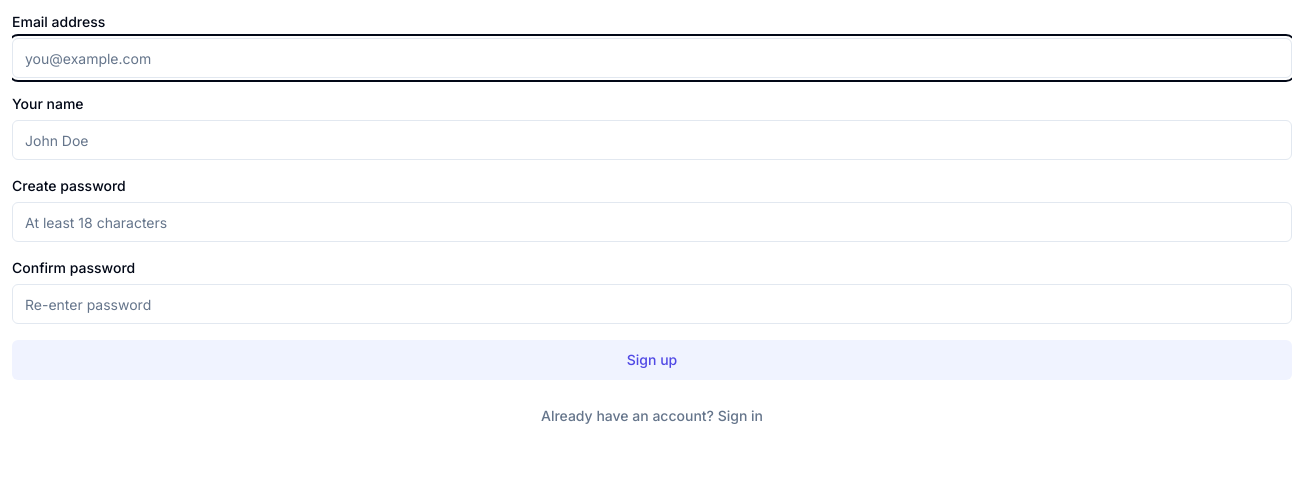
Test: EmailPasswordAuthForm › Sign-up flow › validates password match
This screenshot has width=1304, height=487.
Type "test@example.com" into the field labelled "Email address" at [652, 58], box top-left (12, 38), bottom-right (1292, 78)
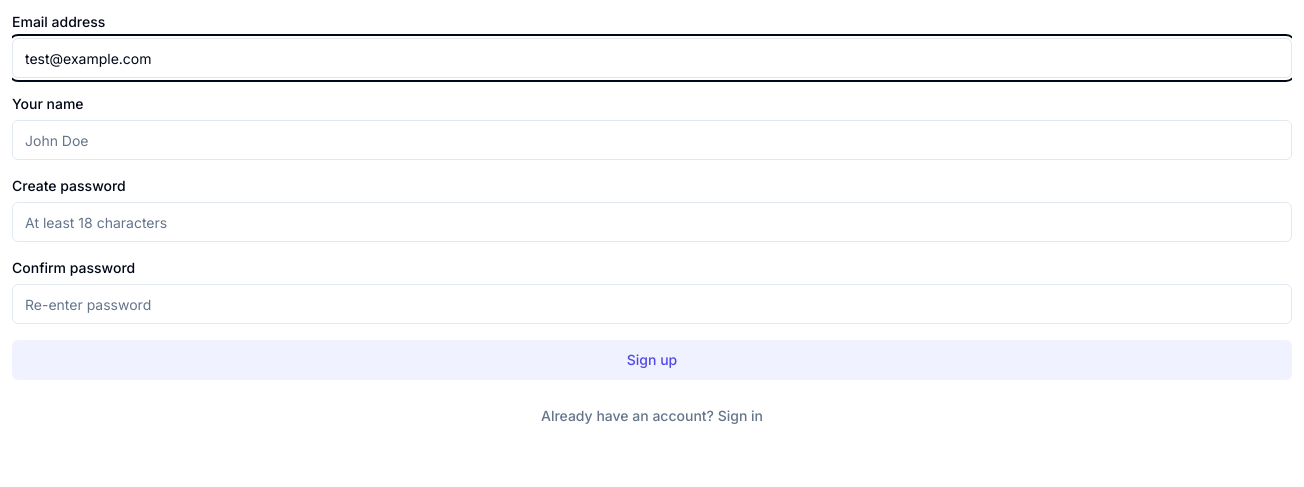
Type "Test User" into the field labelled "Your name" at [652, 140], box top-left (12, 120), bottom-right (1292, 160)
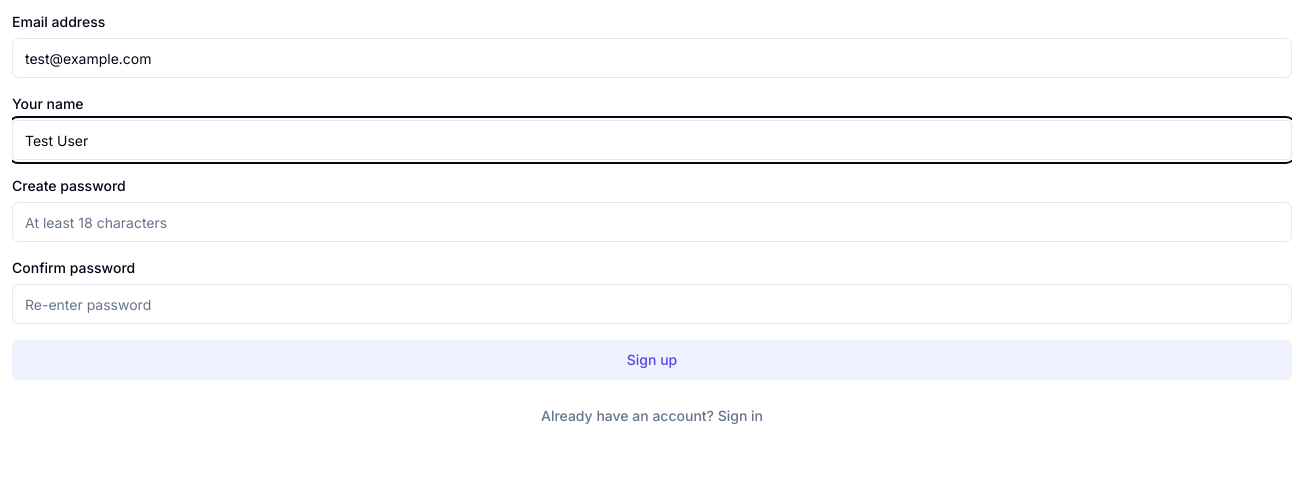
Type "verysecurepassword1" into the password field labelled "Create password" at [652, 222], box top-left (12, 202), bottom-right (1292, 242)
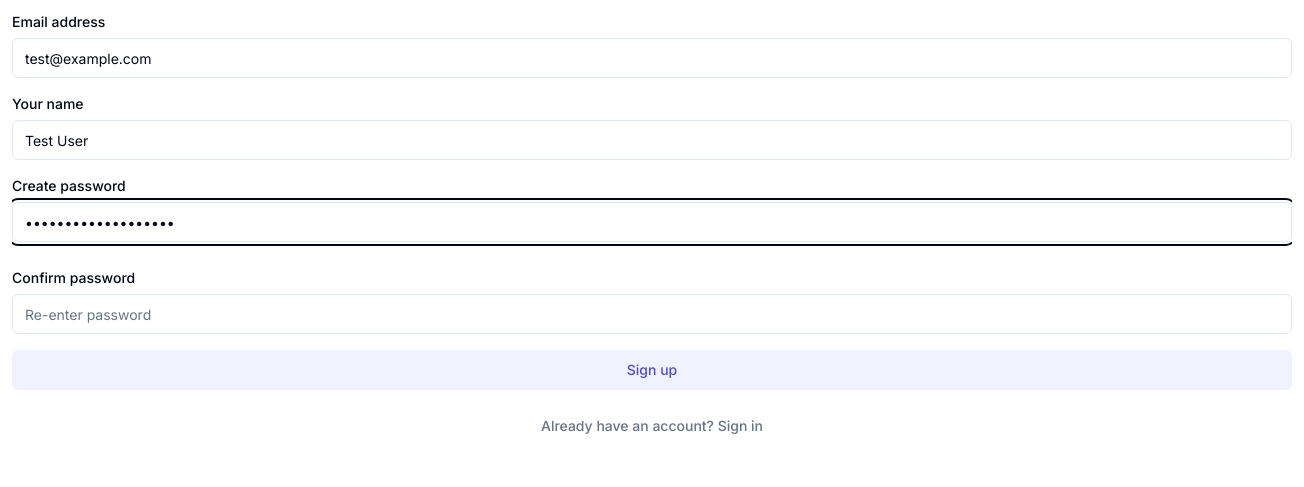
Type "differentpassword123" into the password field labelled "Confirm password" at [652, 314], box top-left (12, 294), bottom-right (1292, 334)
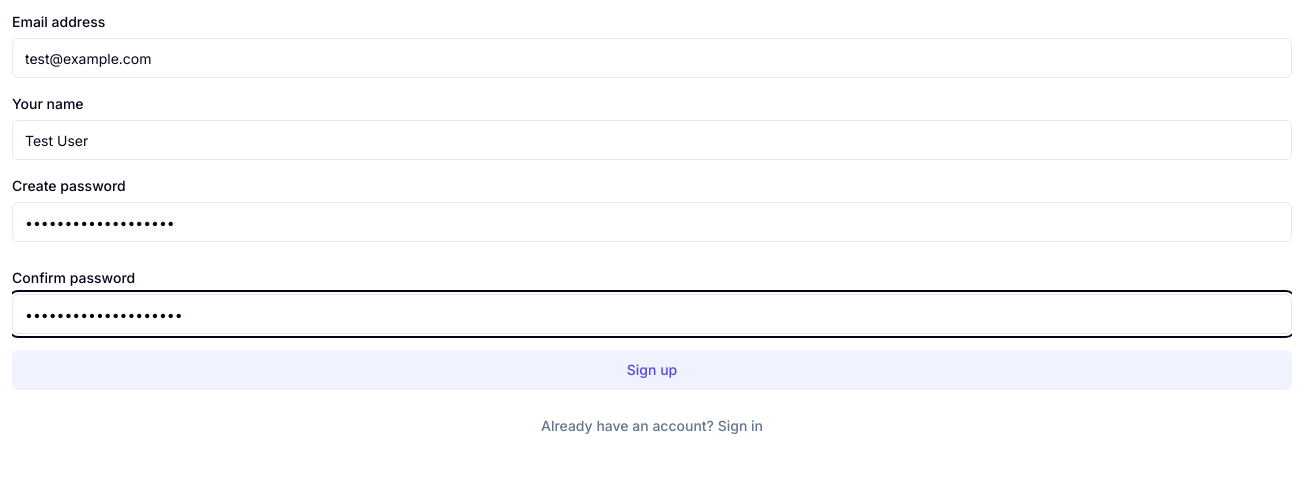
Click the button "Sign up" at [652, 370], box top-left (12, 350), bottom-right (1292, 390)
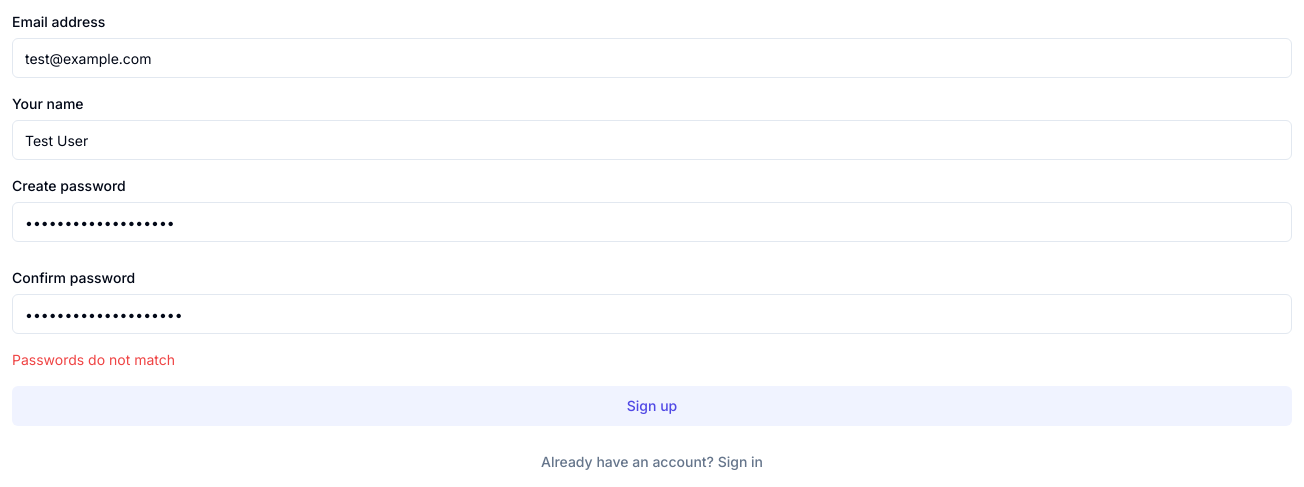
Expected: the text "Passwords do not match" is shown, top-left (12, 351), bottom-right (175, 368)
